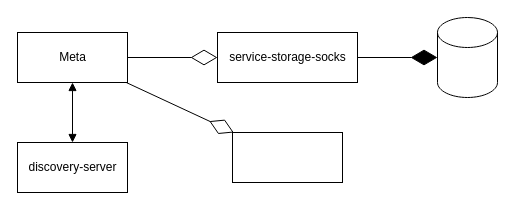
This 515x210 diagram has some shape labels left out. The centre of each missing label's shape, as x and y in pixels:
"BD" belongs at (x=467, y=57).
"service-gif" belongs at (x=287, y=157).
